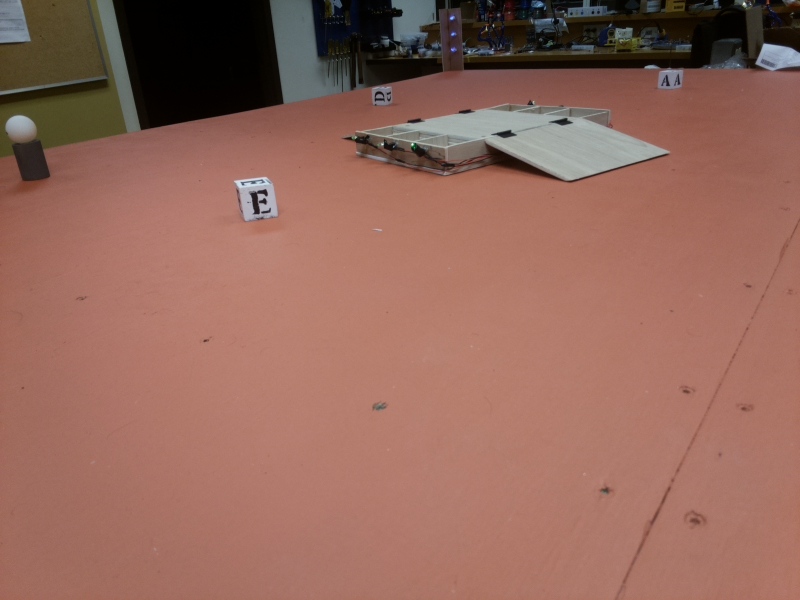blockA: (655, 70, 684, 91)
blockD: (368, 83, 394, 107)
blockE: (232, 177, 278, 223)
obstacle: (2, 116, 57, 184)
side: (350, 131, 452, 178)
slope: (485, 120, 667, 186)
